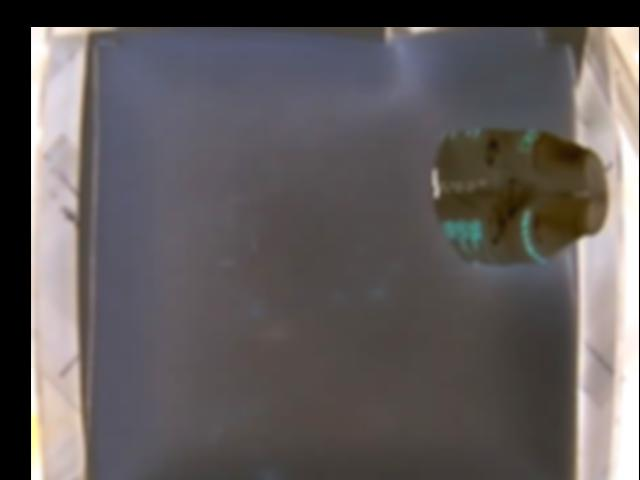Bottle: (432, 129, 610, 268)
